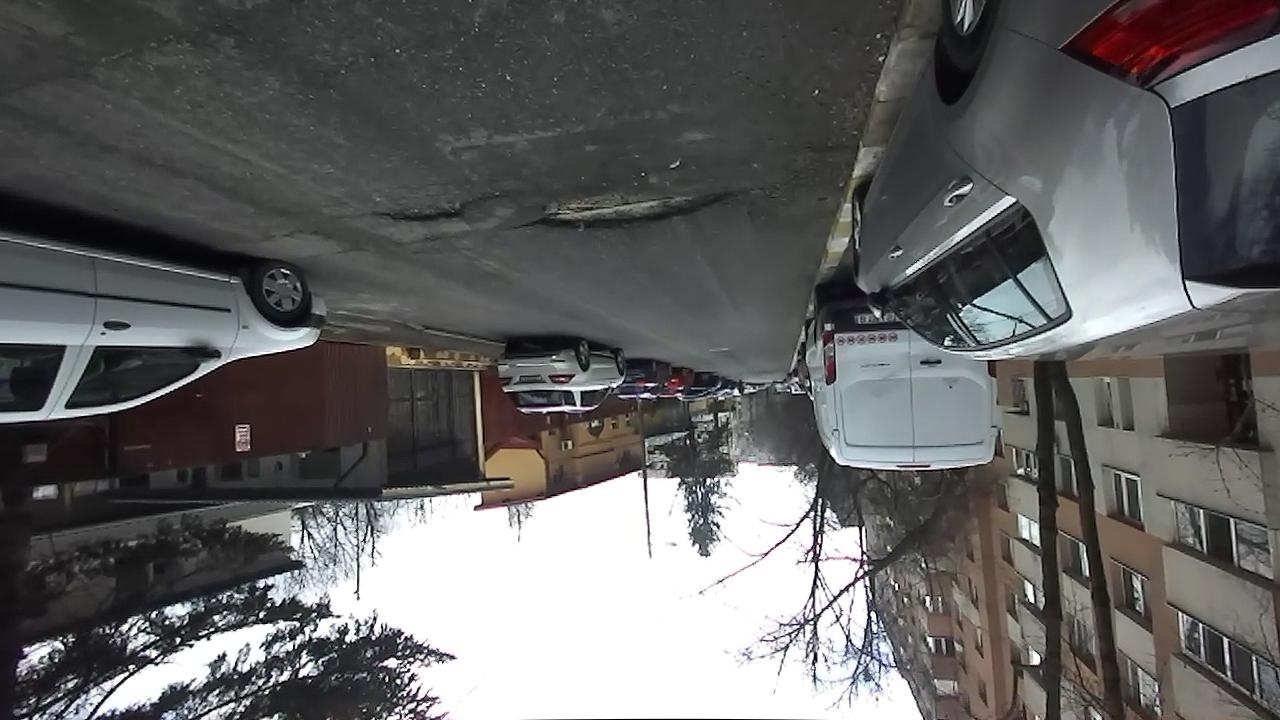pothole: (510, 180, 747, 235), (371, 190, 504, 225)
